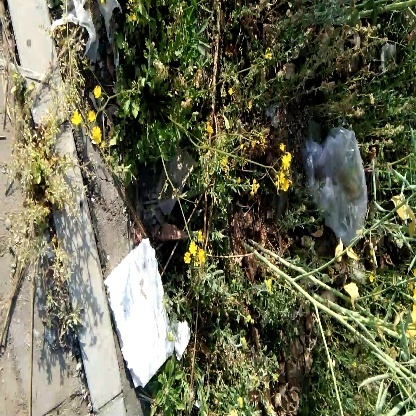plastic-bag: (300, 122, 377, 246)
